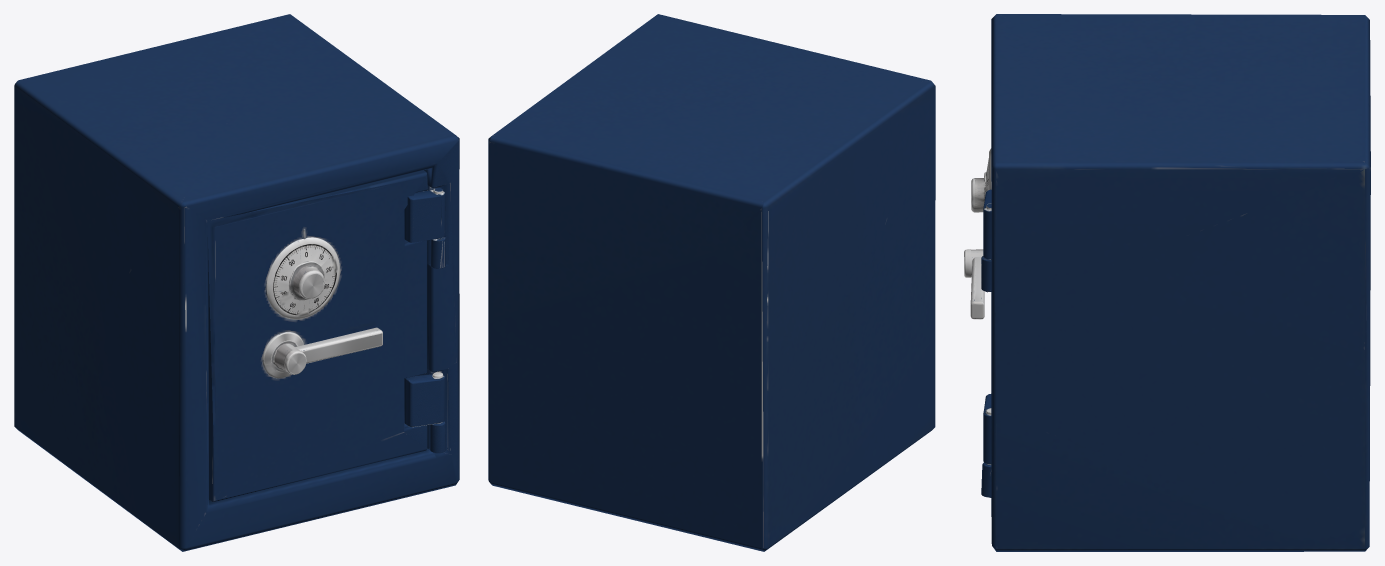
The model's file is safe_3.glb.
3 renders of one model, left to right at view 1: azimuth 30°, elevation 25°; view 2: azimuth 150°, elevation 25°; view 3: azimuth 270°, elevation 25°, orthographic. The views are drawn at different scales.
Size of the model in its own units: 0.7993 by 0.9521 by 0.9009.
1 material, 1 textured.
